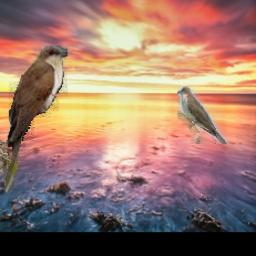Cuckoo: (4, 46, 69, 192), (176, 86, 228, 144)
Sparrow: (0, 133, 12, 178)
